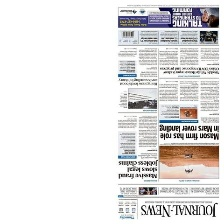news_paper: (118, 4, 219, 221)
